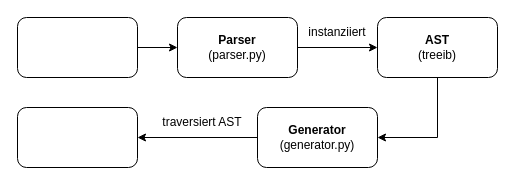
This 515x185 diagram has some shape labels left out. Each missing label, with the box of its shape:
PlantUML File (.puml): (16, 16, 138, 78)
Python Code (.py): (16, 106, 138, 168)
